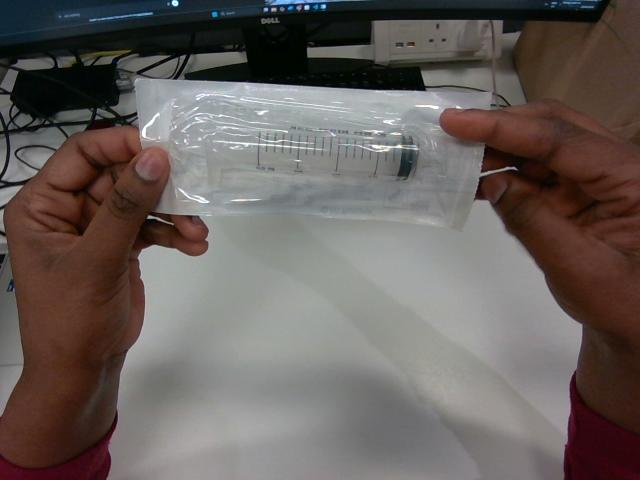syringe: (135, 79, 490, 228)
